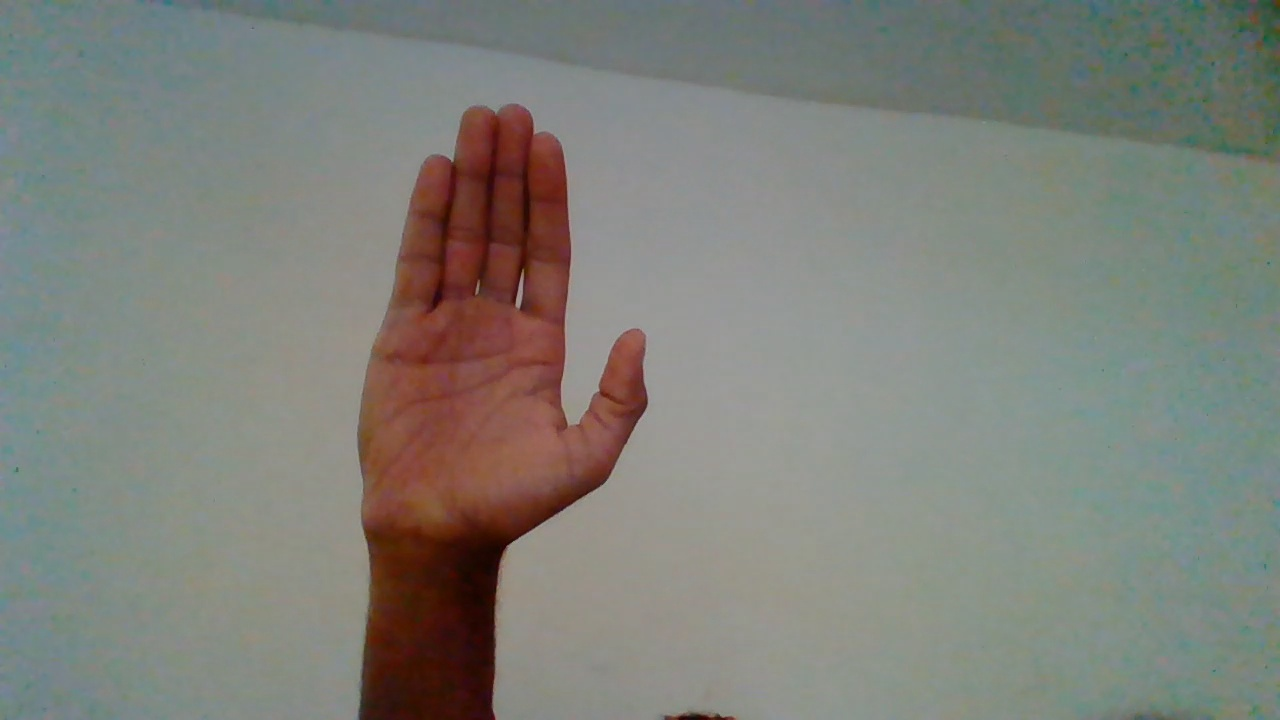ha: (357, 94, 655, 641)
